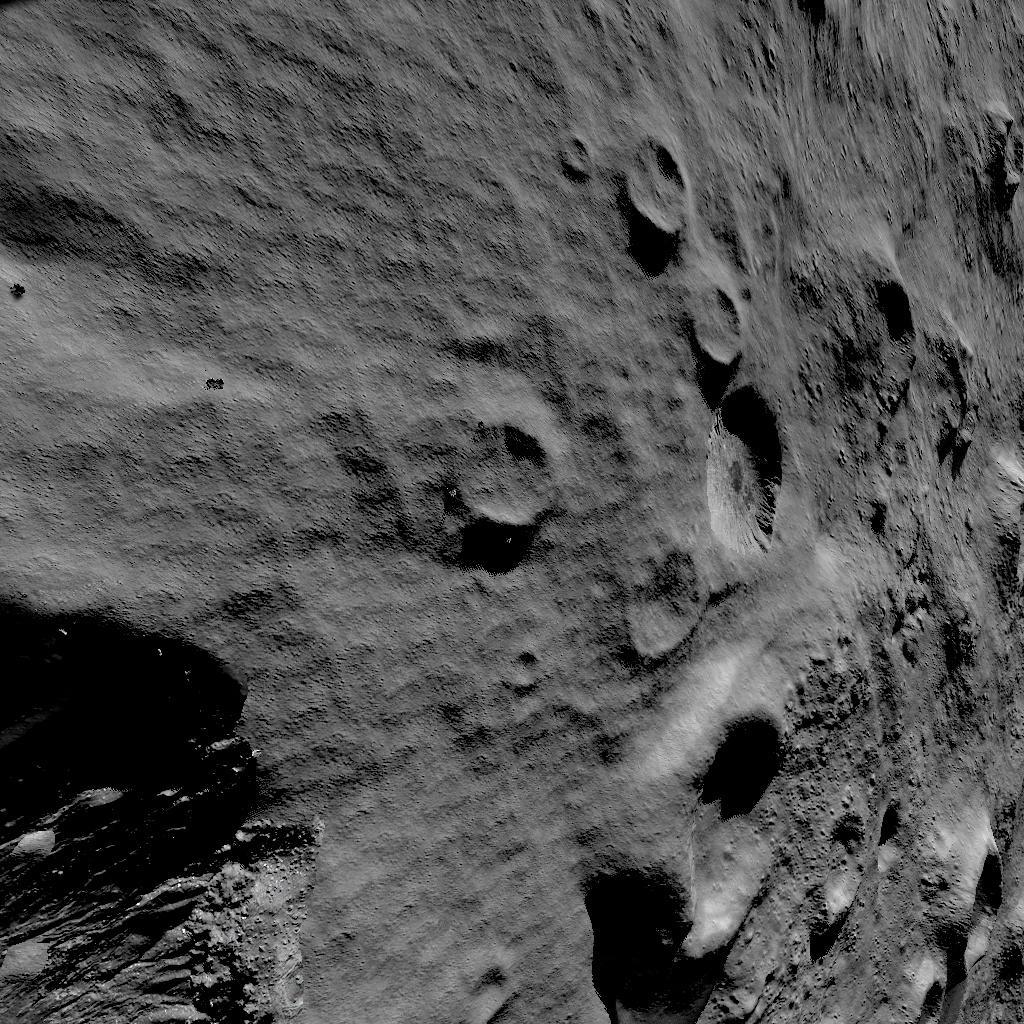Boulders: (0, 598, 216, 1024)
Crater: (546, 654, 770, 1024), (603, 140, 768, 558), (786, 765, 1024, 1024), (786, 282, 935, 478), (952, 298, 1024, 642), (441, 415, 563, 540), (731, 0, 1003, 53), (954, 112, 1020, 258)
Plan surface: (0, 0, 588, 395), (238, 565, 526, 1024), (0, 410, 395, 553)
